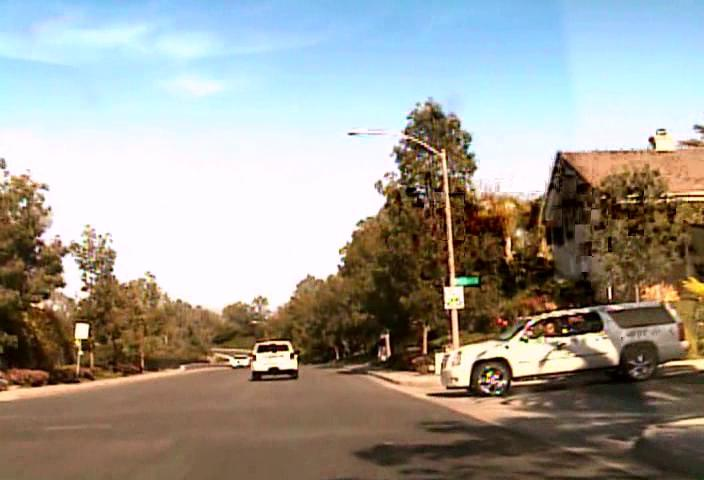speedLimit25: (443, 285, 464, 309)
